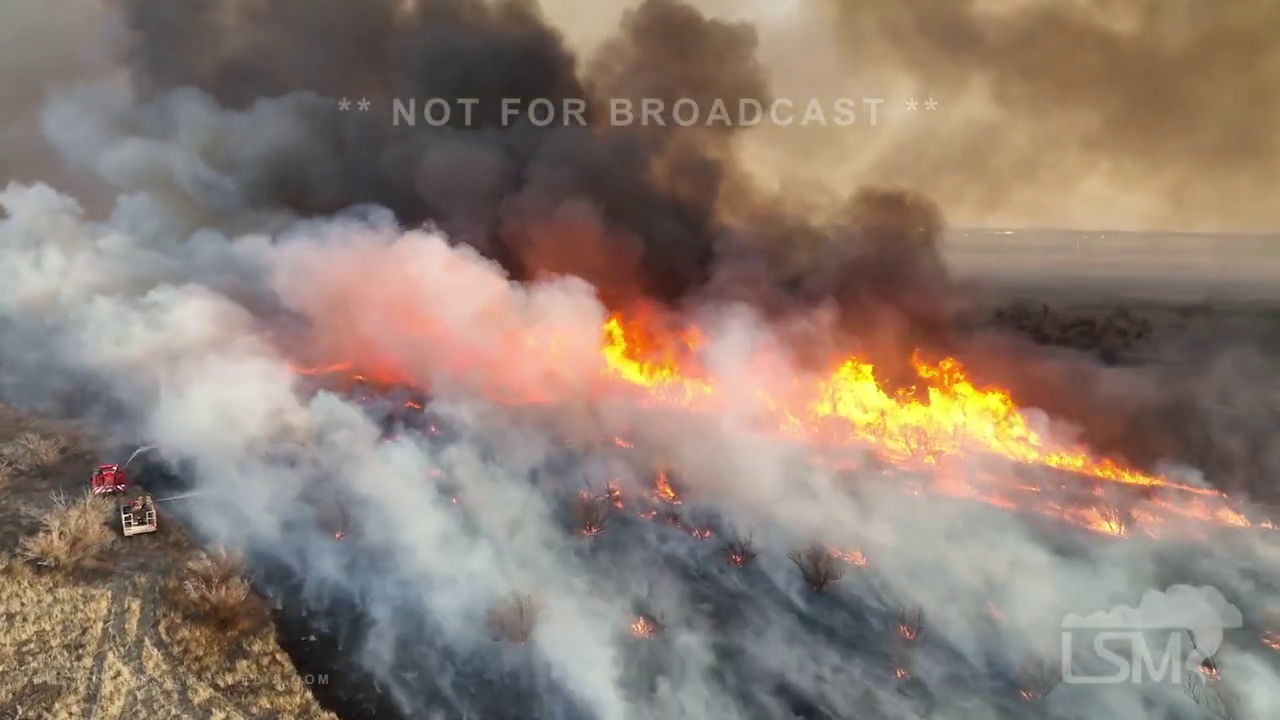forest_fire: (747, 352, 1224, 501), (600, 313, 729, 409), (788, 543, 868, 590), (299, 358, 407, 382), (720, 536, 755, 566), (654, 470, 681, 504), (688, 527, 713, 539)
